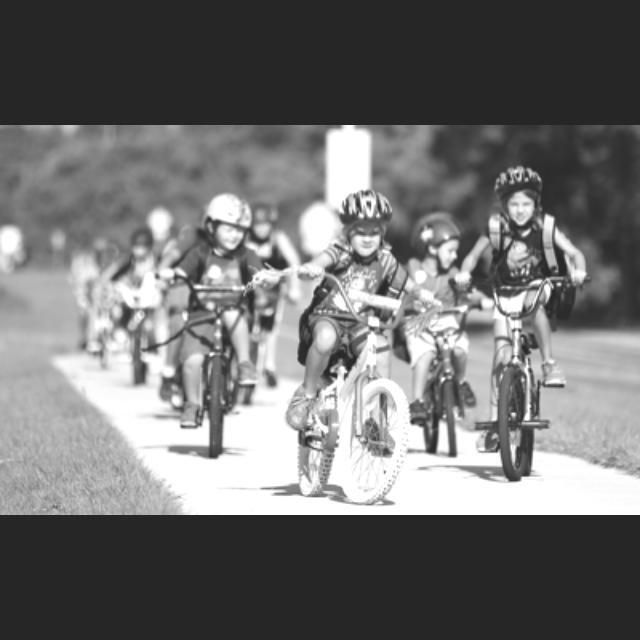With Helmet: (334, 184, 396, 262), (494, 162, 548, 228), (200, 192, 252, 254)
